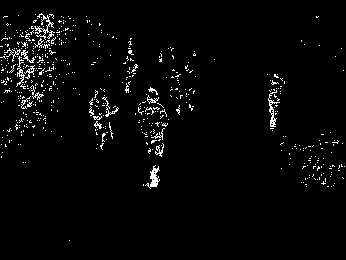person: (136, 87, 168, 189), (88, 88, 118, 151), (266, 71, 285, 133), (122, 54, 138, 93)
